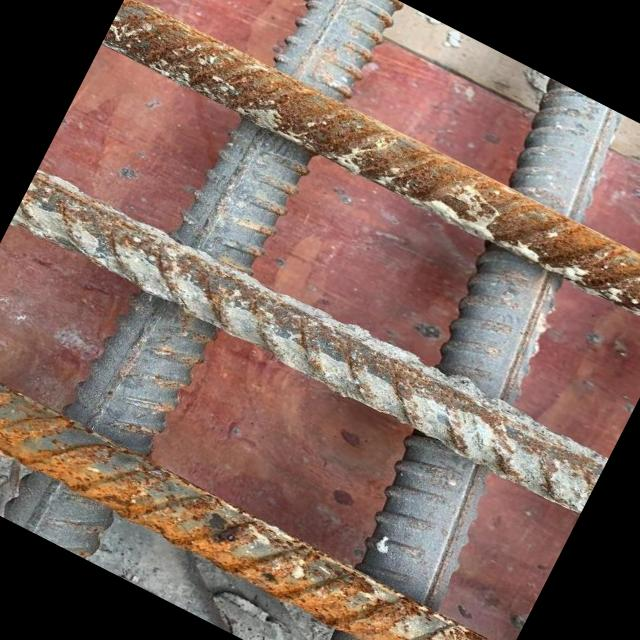ribbed bar: (0, 0, 406, 574), (253, 75, 640, 640), (7, 165, 609, 519), (100, 0, 640, 336), (0, 349, 515, 640)
